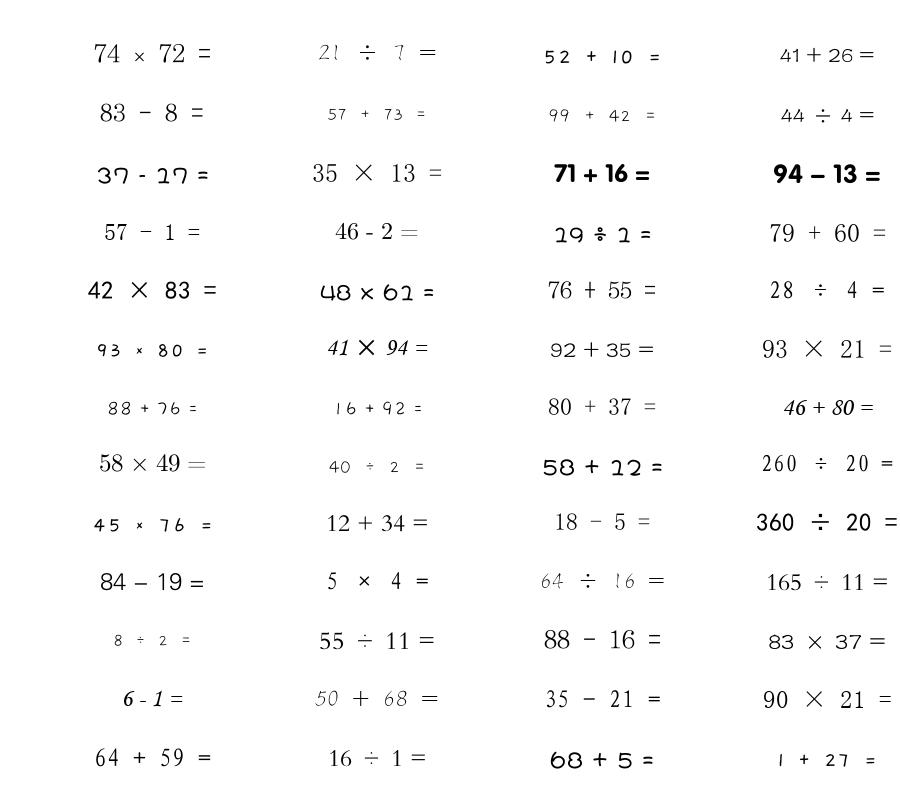MQ: (756, 513, 898, 532), (312, 163, 442, 182), (762, 339, 892, 358), (761, 454, 893, 472), (94, 43, 211, 63), (544, 629, 661, 649), (88, 281, 217, 299), (94, 748, 211, 767), (763, 691, 892, 708), (773, 164, 881, 184), (769, 224, 886, 242), (544, 690, 661, 708), (766, 574, 889, 591), (769, 281, 885, 299), (319, 632, 435, 650), (542, 459, 663, 476), (318, 44, 437, 61), (540, 573, 665, 589), (315, 690, 439, 706), (100, 103, 204, 122), (320, 284, 435, 301), (548, 281, 656, 299), (99, 454, 206, 472), (96, 167, 209, 184), (554, 163, 650, 183), (100, 573, 205, 591), (550, 751, 654, 769), (326, 572, 429, 590), (548, 398, 656, 415), (768, 634, 886, 649), (550, 341, 654, 358), (326, 515, 429, 532), (326, 339, 428, 356), (92, 518, 213, 532), (328, 750, 427, 767), (542, 50, 662, 64), (554, 513, 650, 530), (553, 227, 652, 243), (104, 224, 200, 240), (548, 109, 657, 123), (335, 222, 419, 240), (780, 47, 874, 63), (95, 344, 209, 357), (782, 399, 873, 415), (781, 108, 874, 123), (107, 401, 198, 416), (332, 401, 423, 416), (327, 108, 427, 121), (777, 754, 877, 767), (329, 461, 426, 474), (121, 690, 183, 707), (113, 634, 192, 647)
